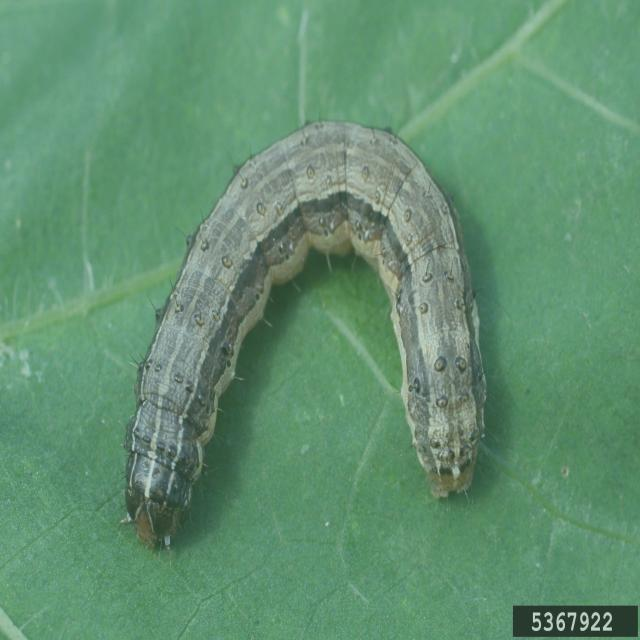armyworm: (120, 117, 488, 554)
